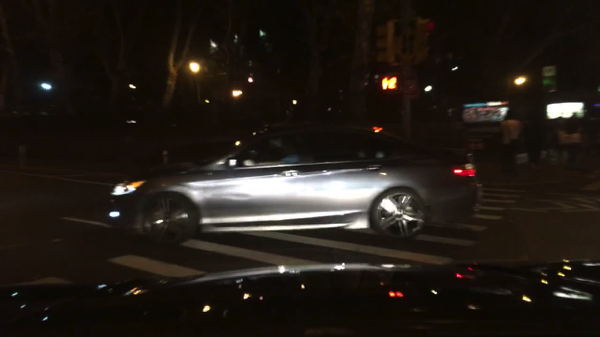car: (105, 119, 526, 247)
person: (502, 110, 524, 173), (525, 110, 543, 169), (566, 112, 579, 173)
traffic light: (416, 17, 434, 67), (376, 25, 390, 64), (381, 75, 401, 93)
traffic sign: (403, 81, 418, 99)
